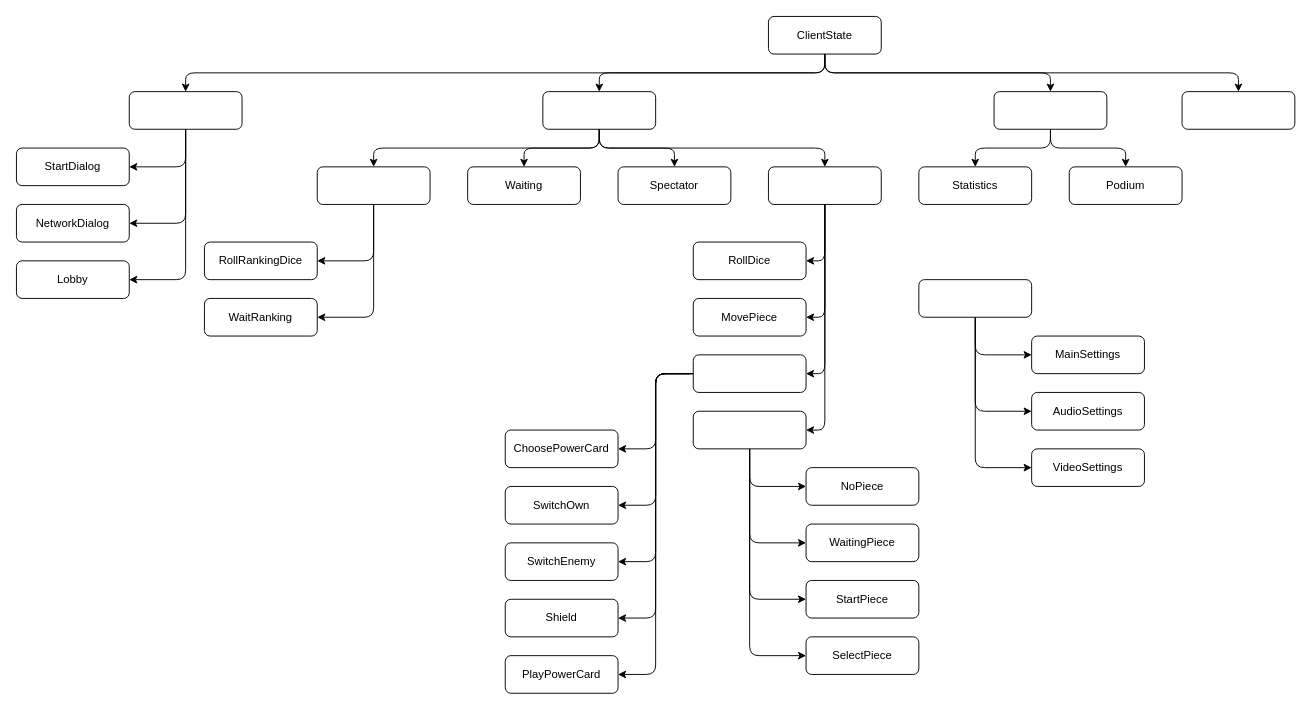
Some shapes in this 1311 by 710 pixel diagram are drawn without their labels. Here are the shapes that lost their labels. From the top down, the box of each, then its label:
(128, 91, 242, 129): Dialogs
(542, 91, 656, 129): Game
(993, 91, 1107, 129): Ceremony
(1181, 91, 1295, 129): Interrupt
(316, 166, 430, 204): DetermineStartPlayer
(768, 166, 881, 204): Turn
(918, 279, 1032, 317): Settings
(692, 354, 806, 392): PowerCard
(692, 410, 806, 449): ChoosePiece
